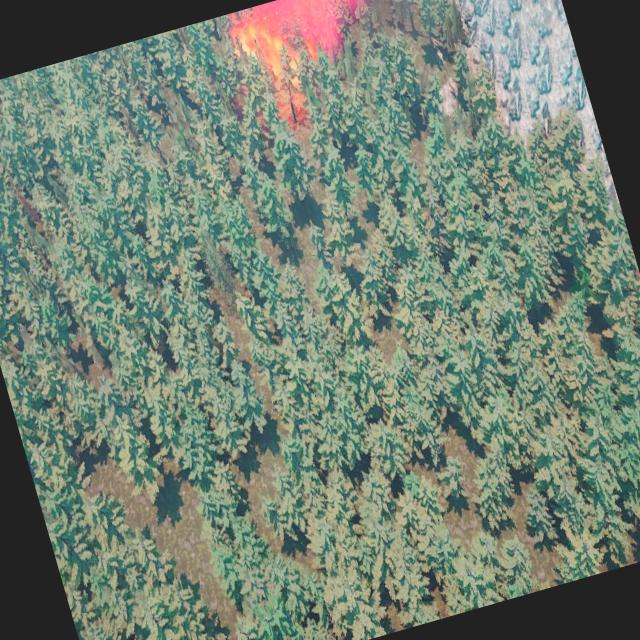fire: (217, 0, 317, 125)
smoke: (237, 0, 386, 73)
